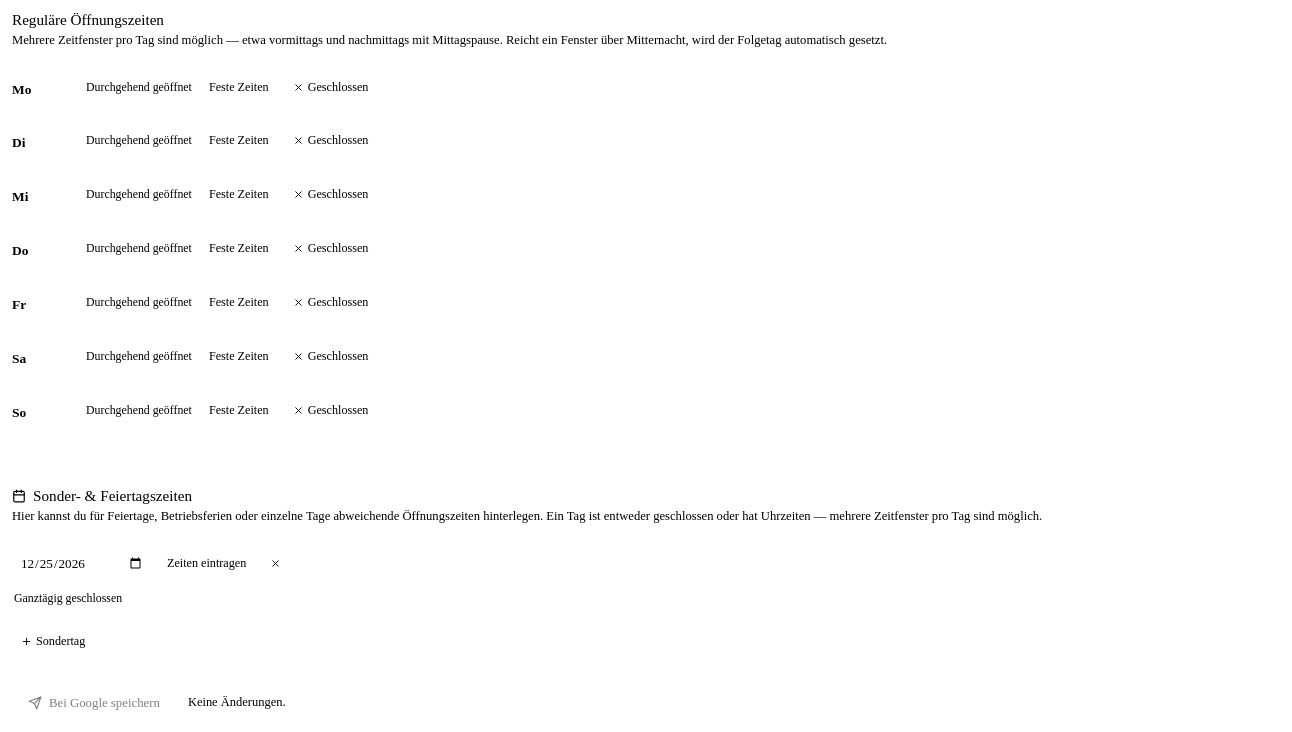
Kein Feststecken › stellt von durchgehend auf feste Zeiten um
Click the button with aria-label "Montag auf feste Zeiten umstellen".
click(239, 87)  # box [200,74,278,100]
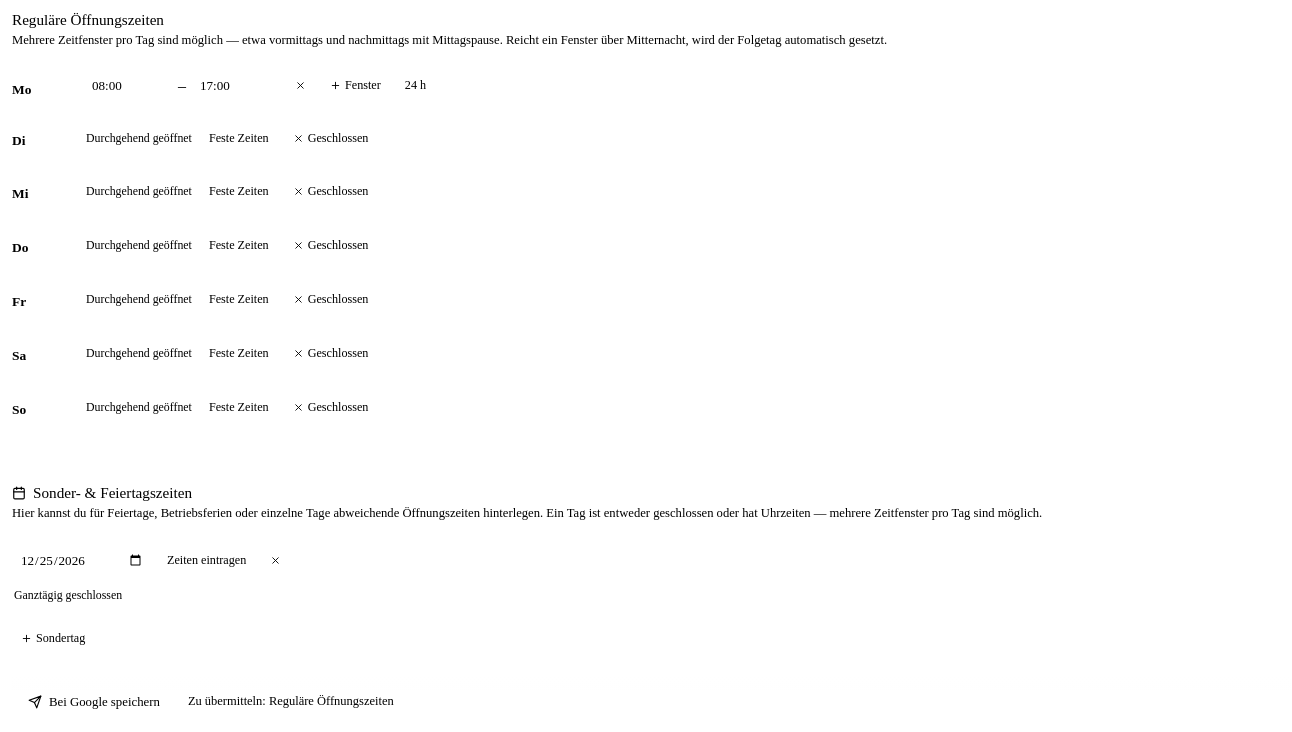
Expected: the field named "Montag Öffnung 1" does not hold "00:00", [84,72,172,100]
